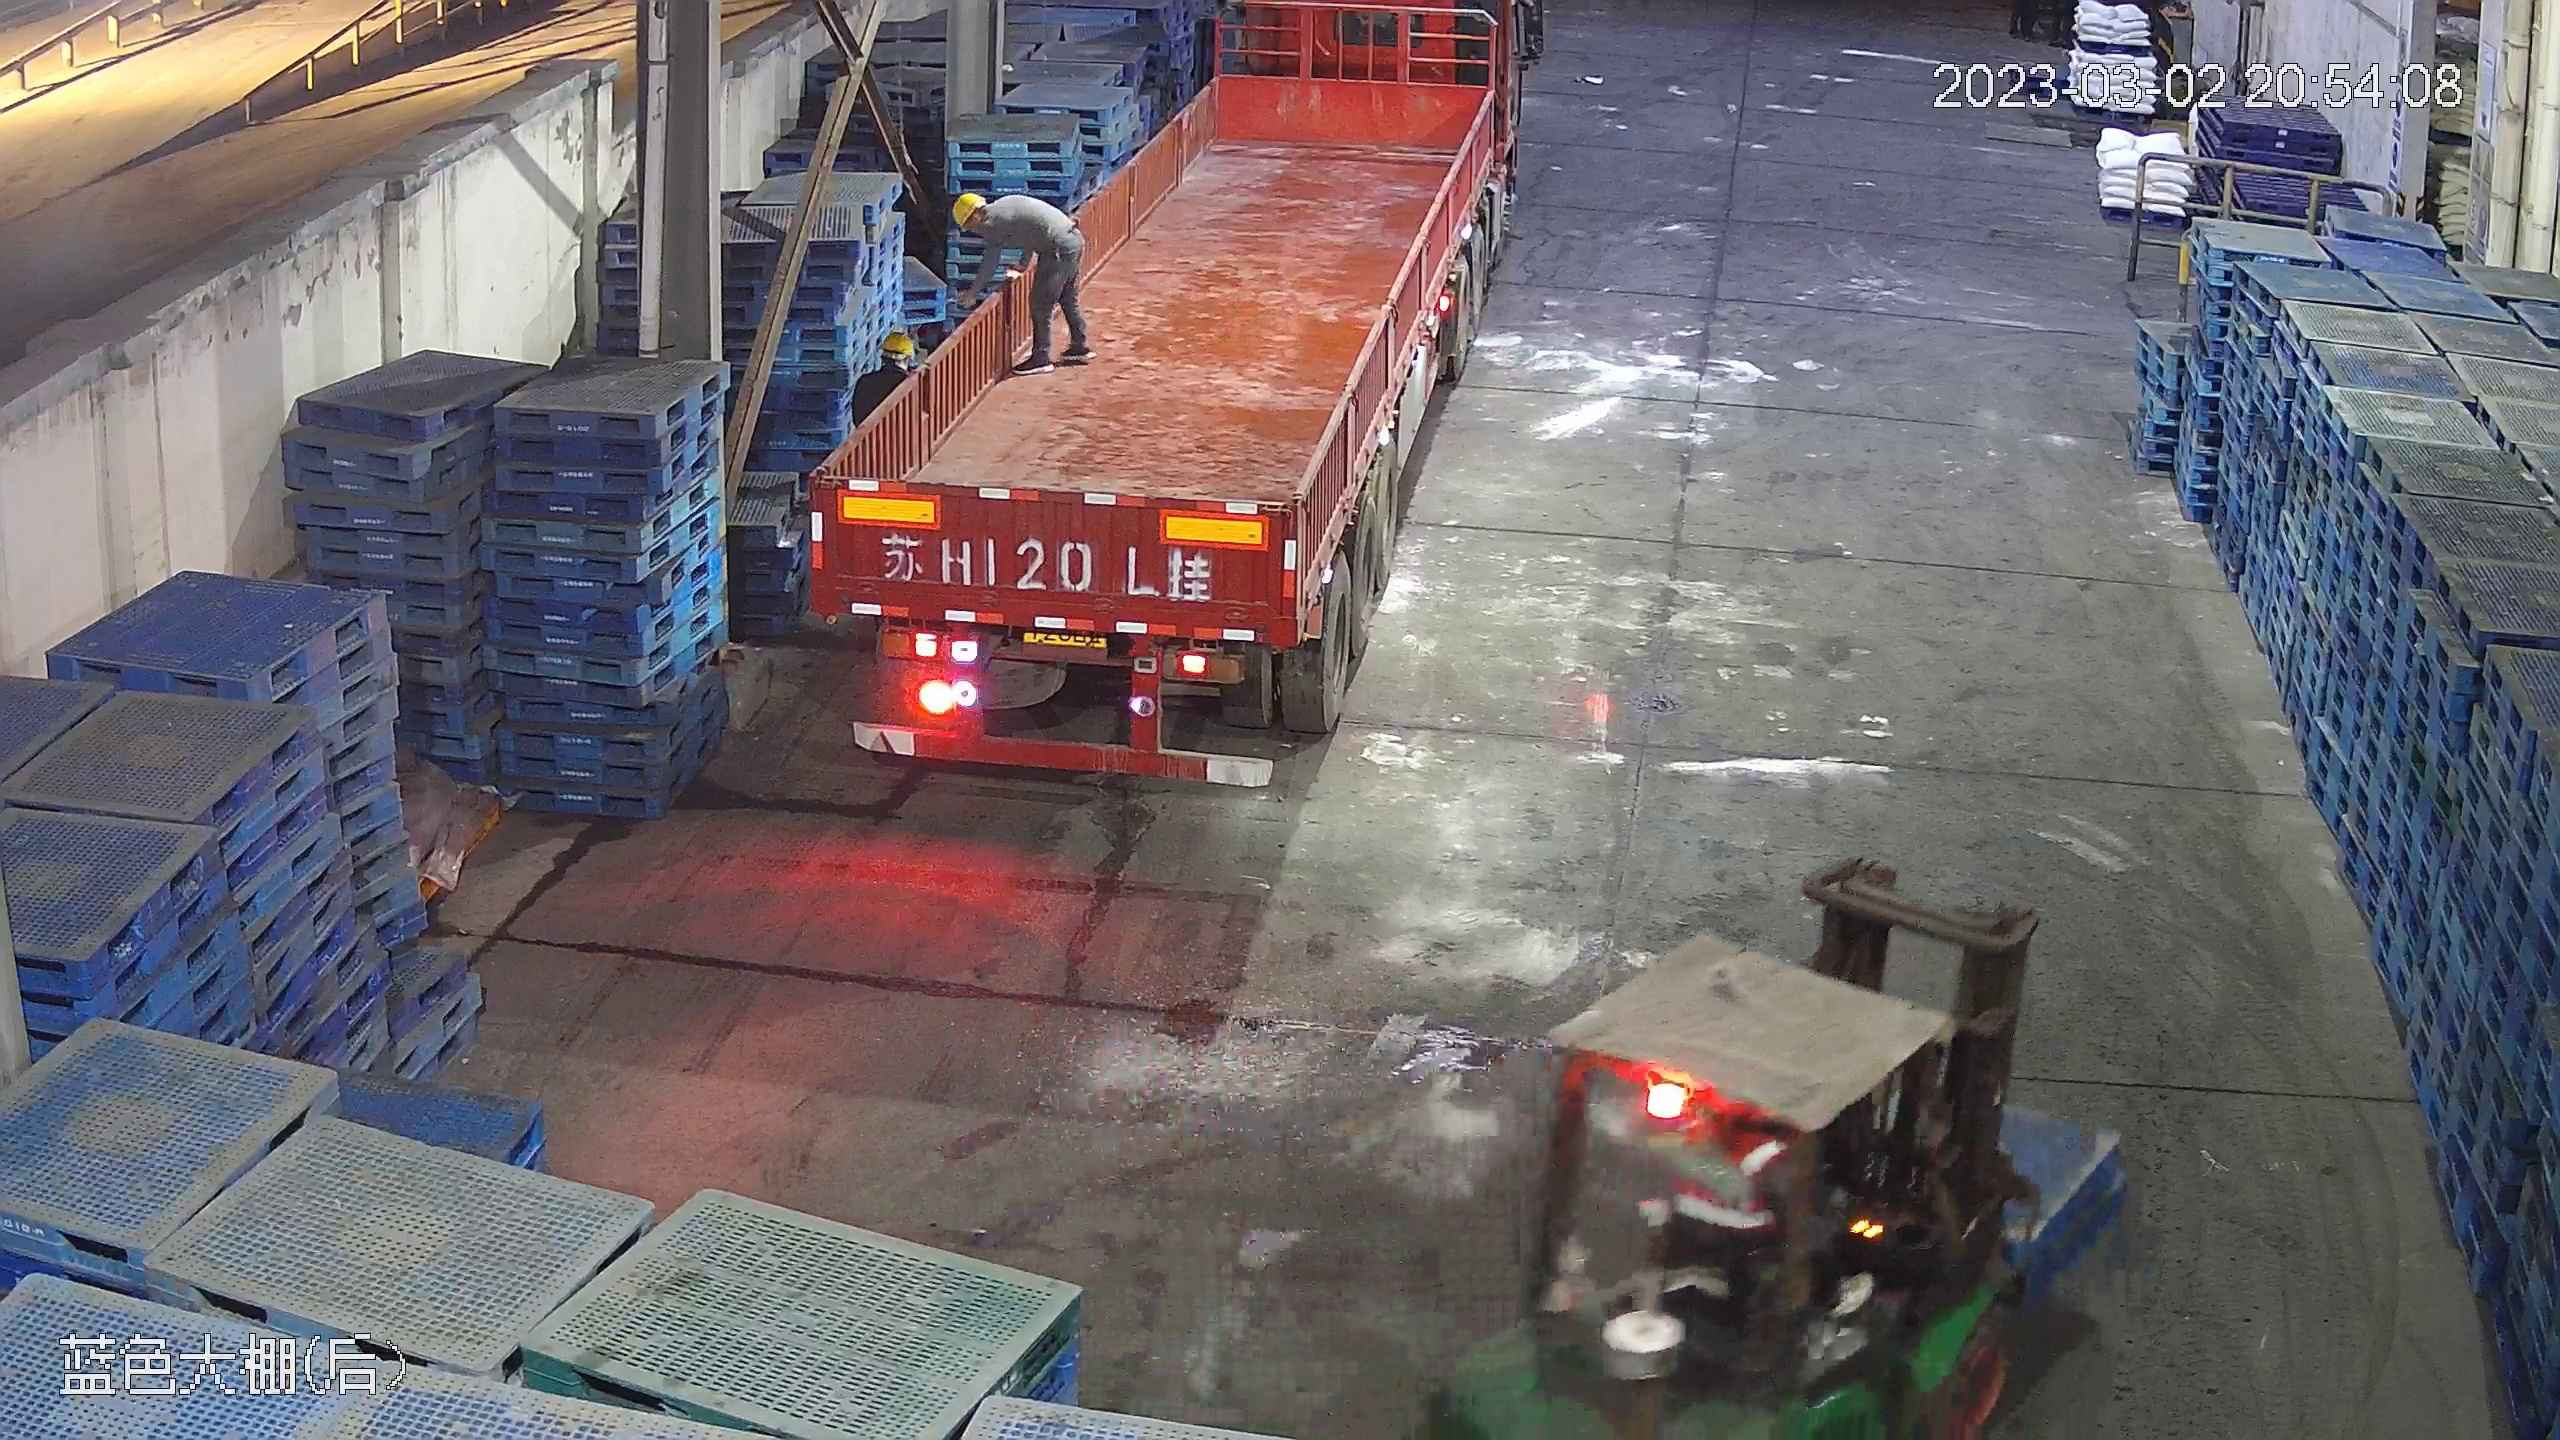head: (950, 191, 1029, 261), (849, 328, 916, 402)
helmet: (952, 191, 988, 227), (878, 327, 916, 354)
people: (938, 190, 1094, 370)
truck: (807, 8, 1529, 786)
